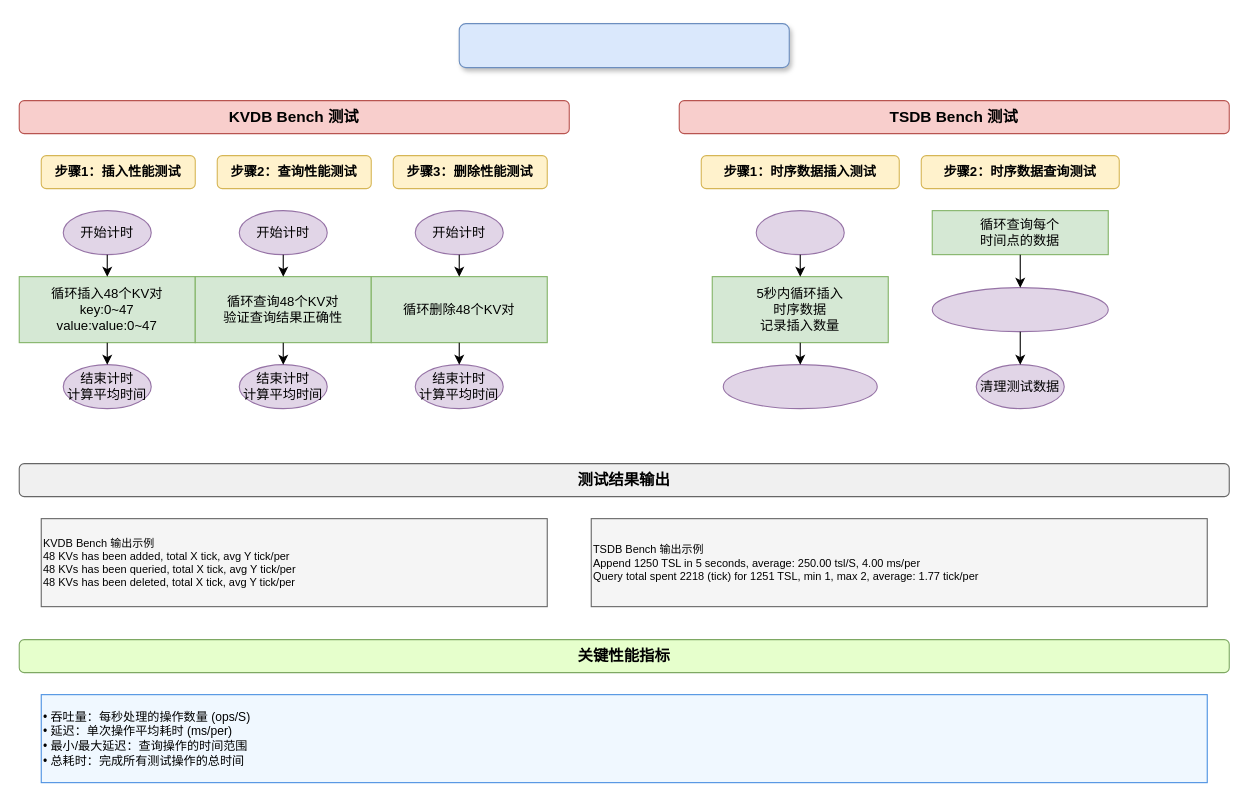
Image size: 1249x802. Some labels were removed from this diagram. Here are the shapes that lost their labels. From the top down, the centre of each, then its label:
At (x=625, y=46): "FlashDB Bench 性能测试原理".
At (x=799, y=232): "清空TSDB".
At (x=1019, y=309): "记录最小、最大 和平均查询时间".
At (x=799, y=386): "计算吞吐量 tsl/S 和 ms/per".
